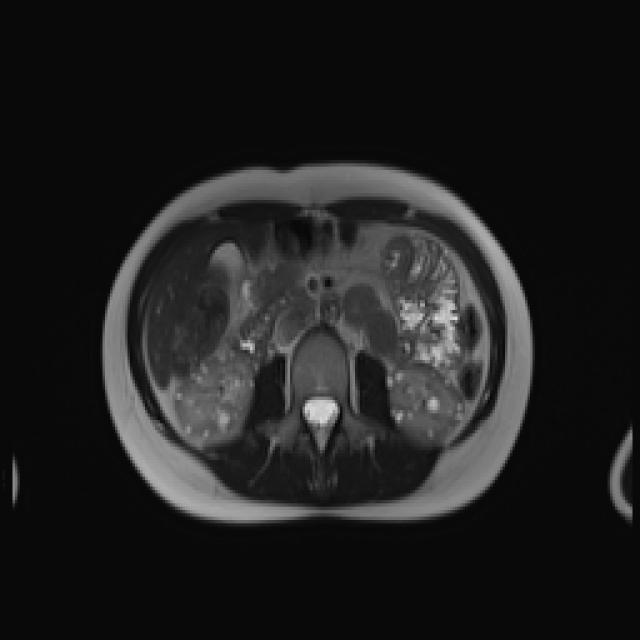sag: (171, 340, 256, 446)
sol: (385, 360, 466, 448)
